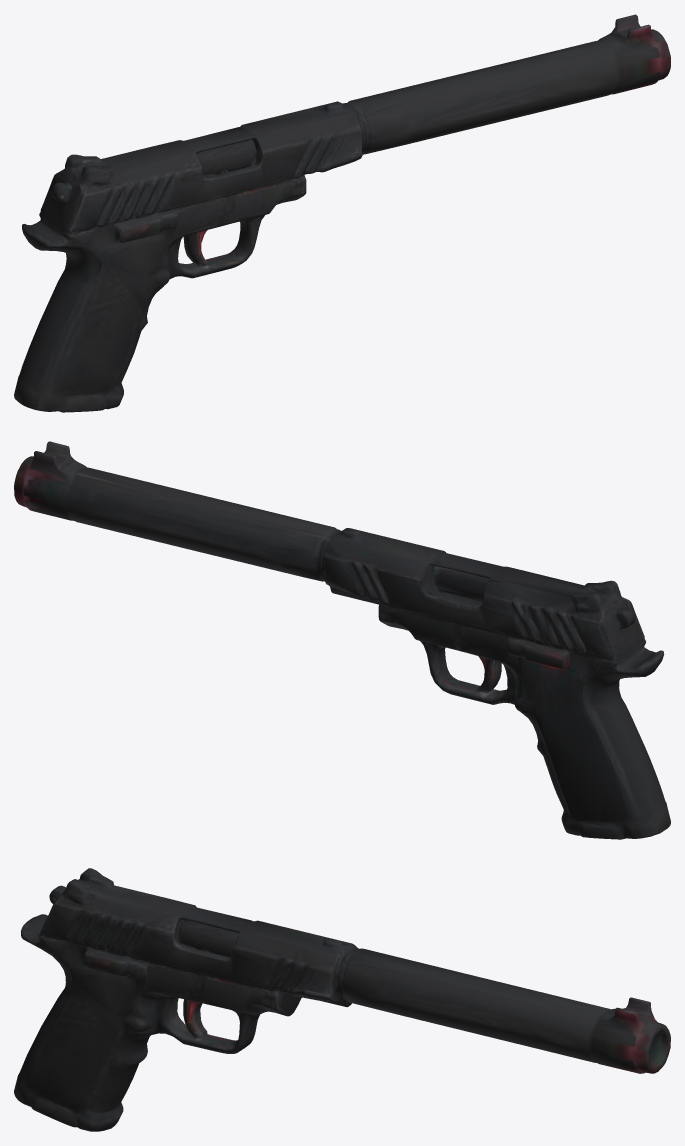
The model's file is pistol_suppressed.glb.
3 views of the same model, one above another, from view 1: azimuth 30°, elevation 25°; view 2: azimuth 150°, elevation 25°; view 3: azimuth 330°, elevation 25° (orthographic).
Parts seen in each view (by area): view 1: pistol_suppressed; view 2: pistol_suppressed; view 3: pistol_suppressed.
Part boxes in pixels (<box>): pistol_suppressed: <box>14,14,670,412</box>; pistol_suppressed: <box>14,441,670,839</box>; pistol_suppressed: <box>14,868,670,1131</box>.
Bounding box in the file's own units: 0.4001 × 0.1485 × 0.0461.
Materials: 1 (1 with a texture image).
